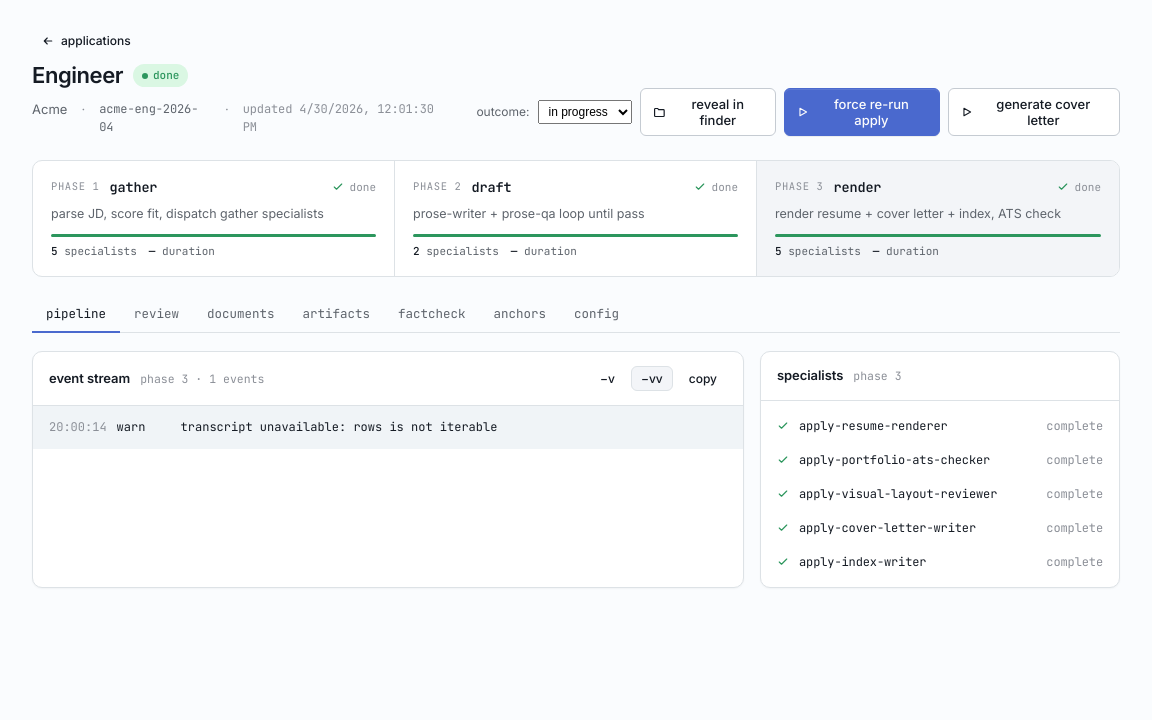
Test case: ApplicationDetail anti-regression: no fabricated fixtures (feat-83d6cf54) › does not render fabricated factcheck claims when no fact-check artifact is present
Click the text "factcheck" at (432, 313), box [398,304,466,322]
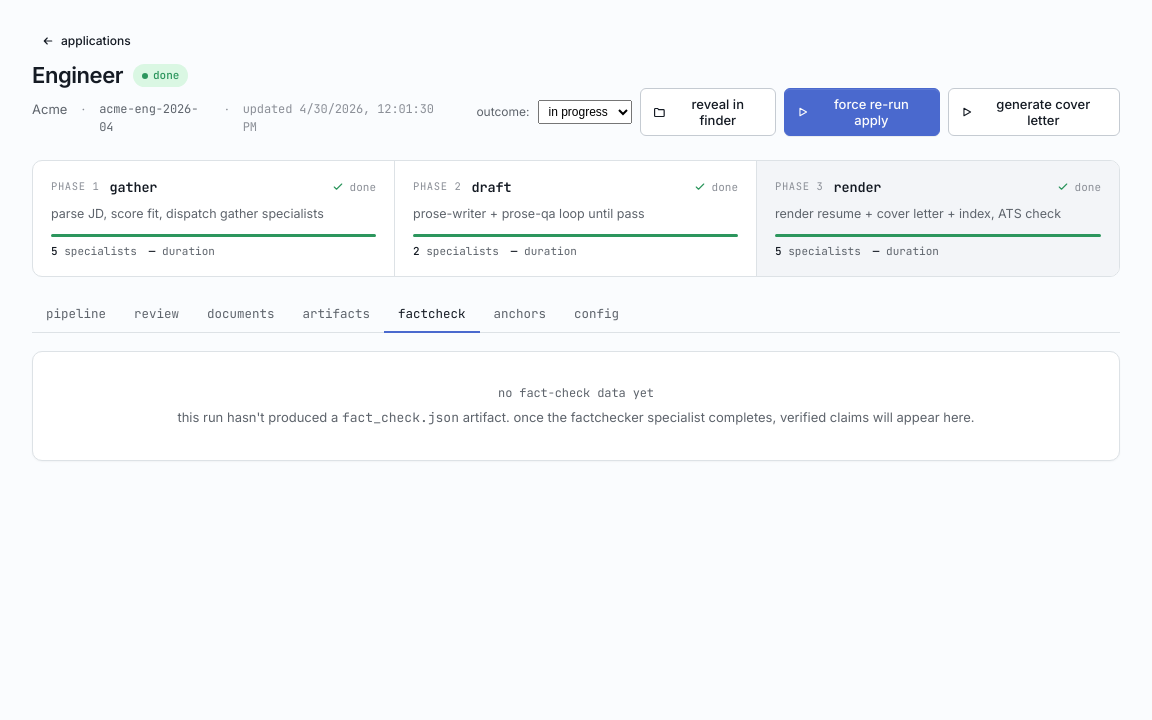
Expected: the text "no fact-check data yet" is shown, [498,385,654,401]
